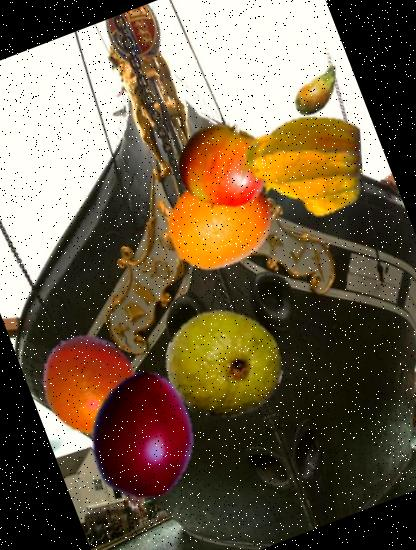Apple: (164, 107, 282, 226)
Banana: (245, 141, 315, 210)
Cactus: (282, 54, 357, 128)
Guava: (148, 288, 300, 440), (96, 365, 193, 462)
Lemon: (146, 152, 287, 294)
Physalis: (220, 88, 381, 249)
Tamarillo: (56, 353, 230, 527)
Tangelo: (25, 316, 158, 449)
